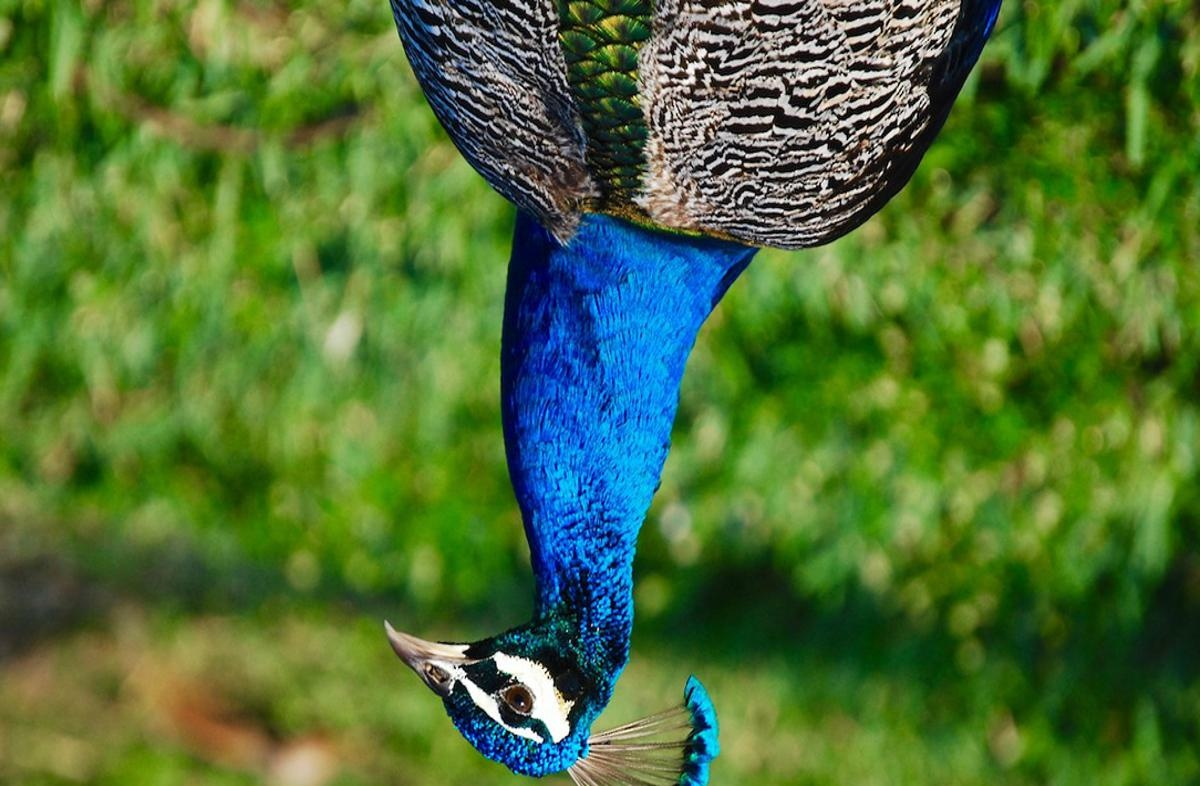peacock: (399, 1, 991, 766)
